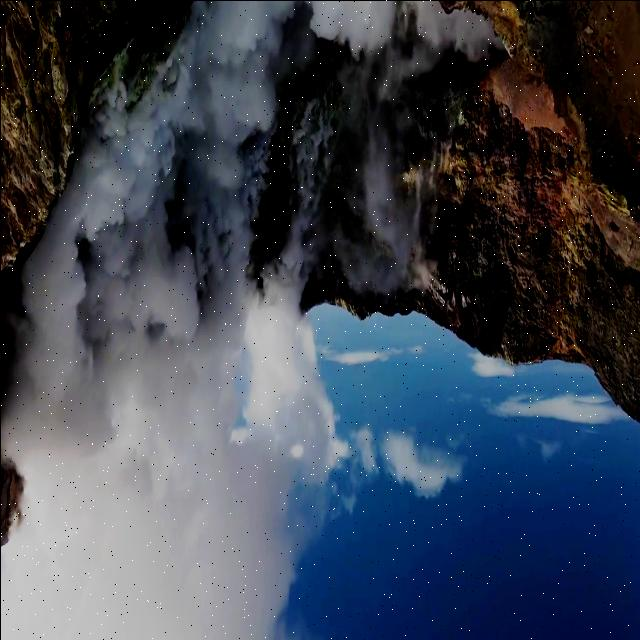asap: (3, 7, 345, 640), (145, 1, 296, 639), (80, 1, 202, 640), (1, 63, 121, 635), (323, 4, 522, 318), (240, 84, 347, 510)
